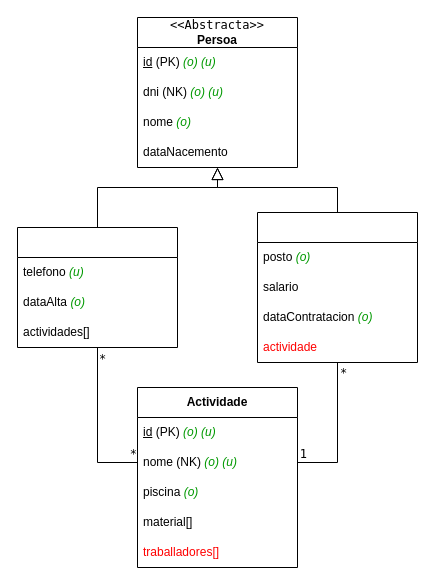
Image size: 435x585. Some labels were removed from this diagram. Here are the shapes that lost their labels. From the top down, the box of each, then its label:
(16, 226, 178, 348): Socio
(256, 212, 418, 362): Traballador
